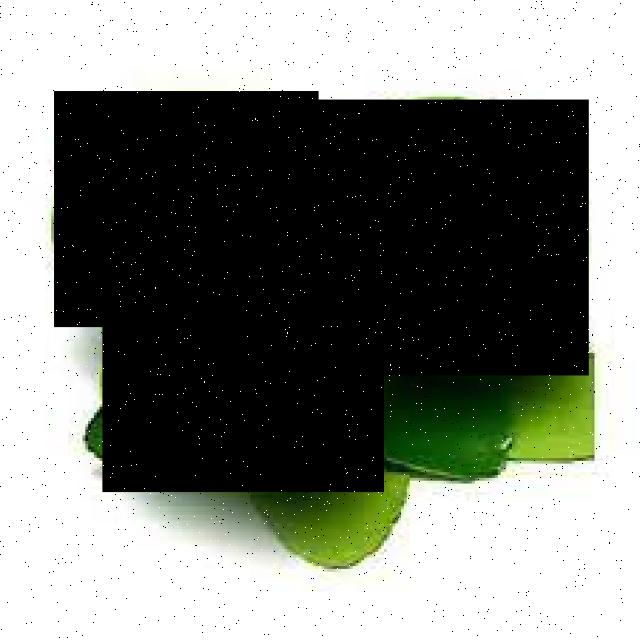Lemon: (102, 221, 384, 492), (319, 100, 589, 375), (54, 91, 319, 327)
